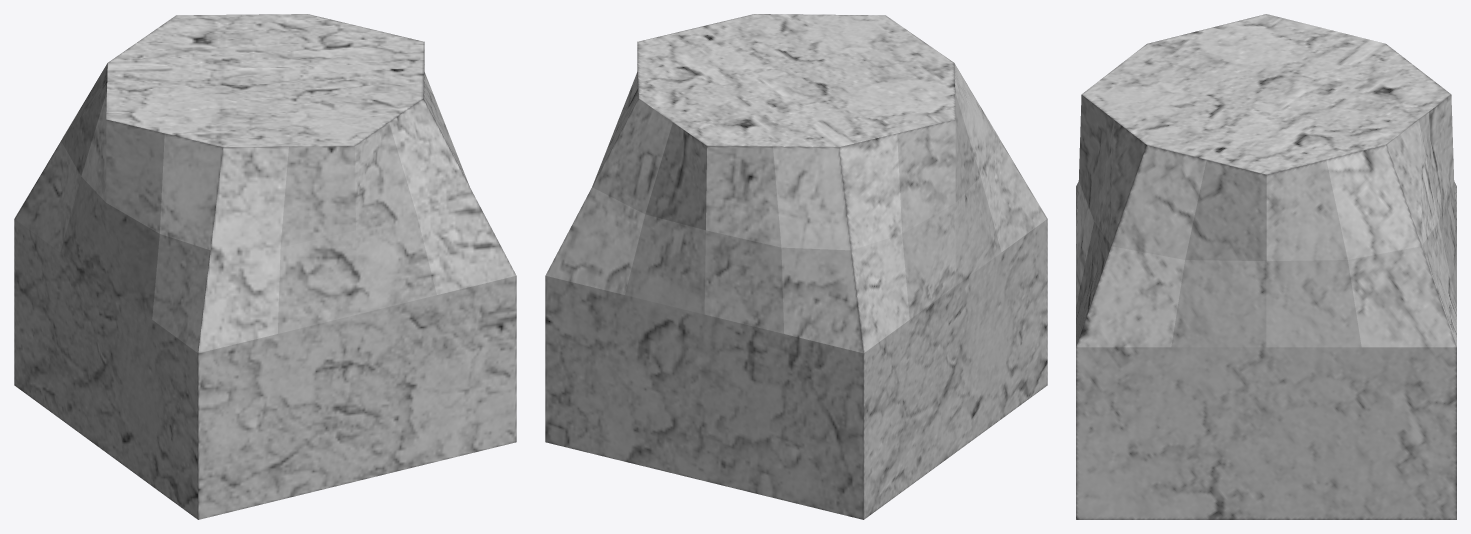
Rendered from col4.fbx.
3 renders of one model, left to right at view 1: azimuth 30°, elevation 25°; view 2: azimuth 150°, elevation 25°; view 3: azimuth 270°, elevation 25°, orthographic. The views are drawn at different scales.
Parts seen in each view (by area): view 1: pCube2; view 2: pCube2; view 3: pCube2.
Boxes of the visible parts, box(x1,y1,x2,y2) form: pCube2: box(14, 14, 516, 519); pCube2: box(545, 14, 1047, 519); pCube2: box(1076, 14, 1456, 519).
Bounding box in the file's own units: 37.35 × 37.35 × 37.35.
Materials: 1 (1 with a texture image).
